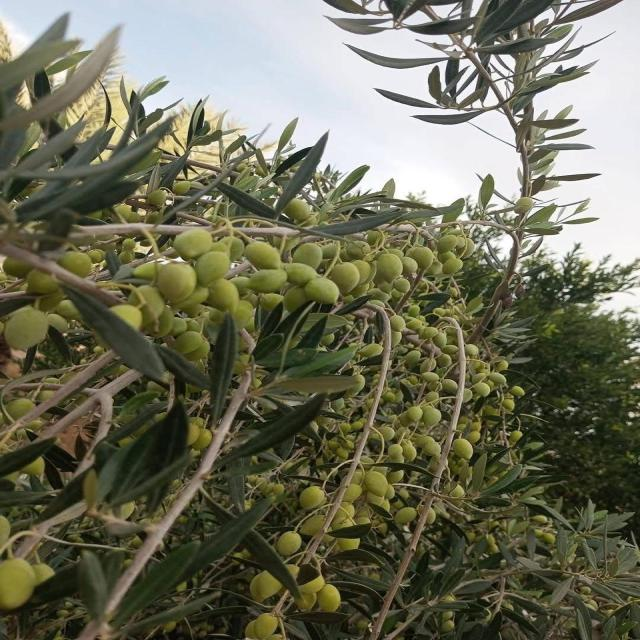Healthy: (156, 263, 197, 302), (195, 250, 231, 284), (173, 228, 212, 257), (304, 278, 340, 304), (247, 270, 287, 293), (245, 242, 279, 269), (377, 252, 403, 281), (317, 584, 341, 612), (364, 471, 389, 497), (299, 486, 325, 510), (277, 532, 301, 556), (452, 438, 473, 460)
